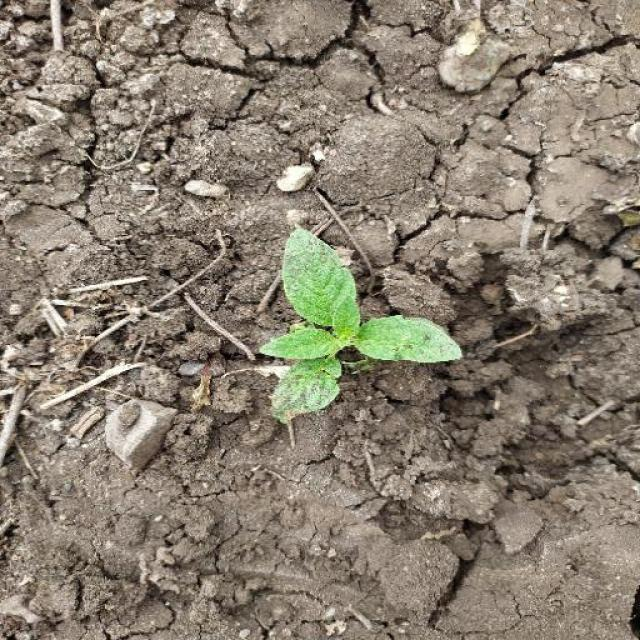crop: (260, 228, 464, 448)
